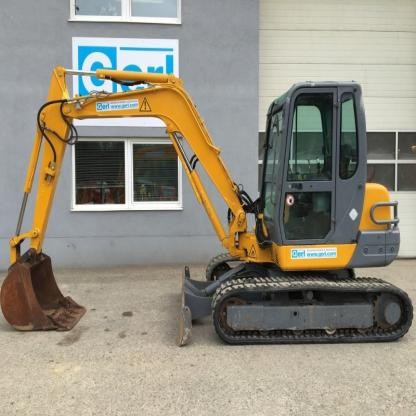excavator: (3, 40, 412, 370)
